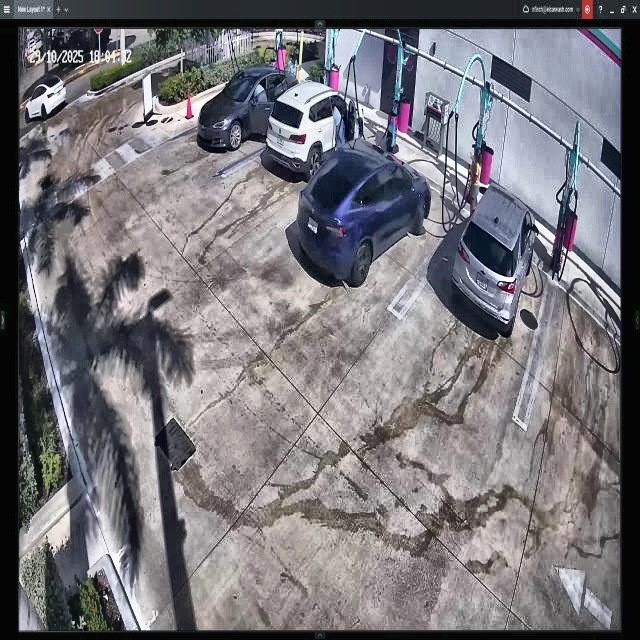Car: (298, 140, 431, 288), (453, 181, 535, 333), (267, 80, 364, 189), (200, 63, 297, 154)
